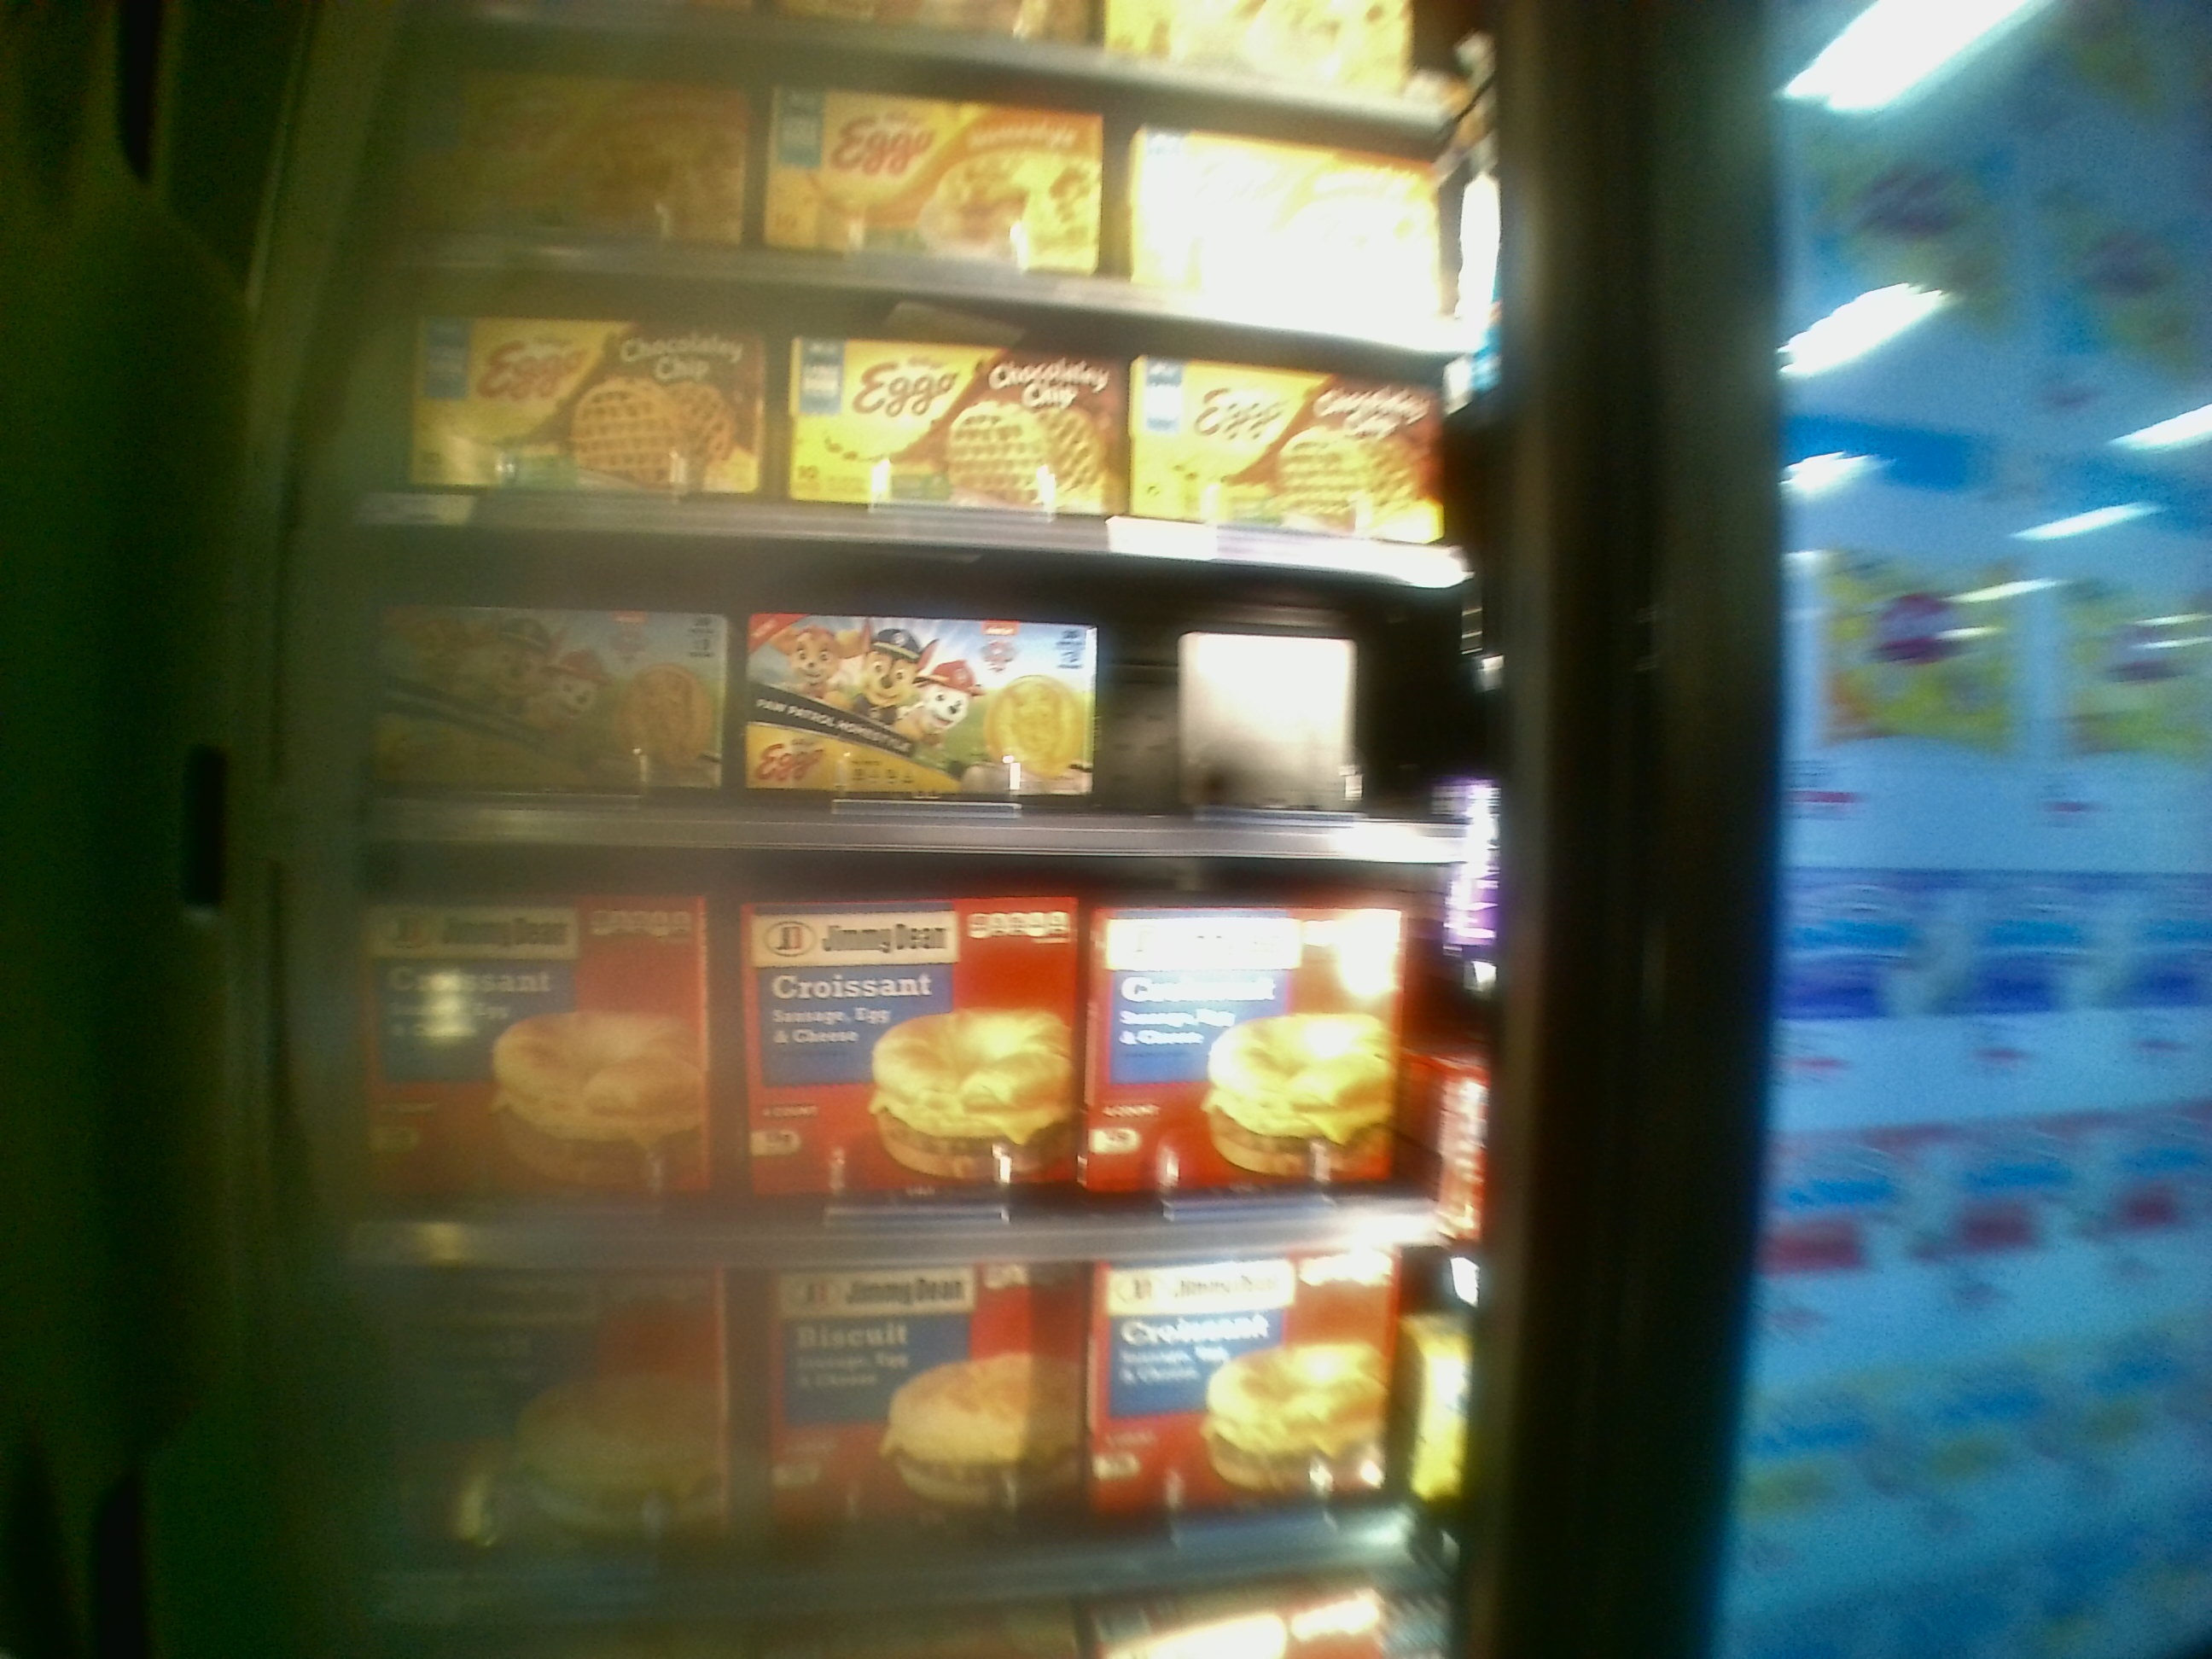shelf: (369, 847, 1475, 1258), (371, 518, 1496, 847)
